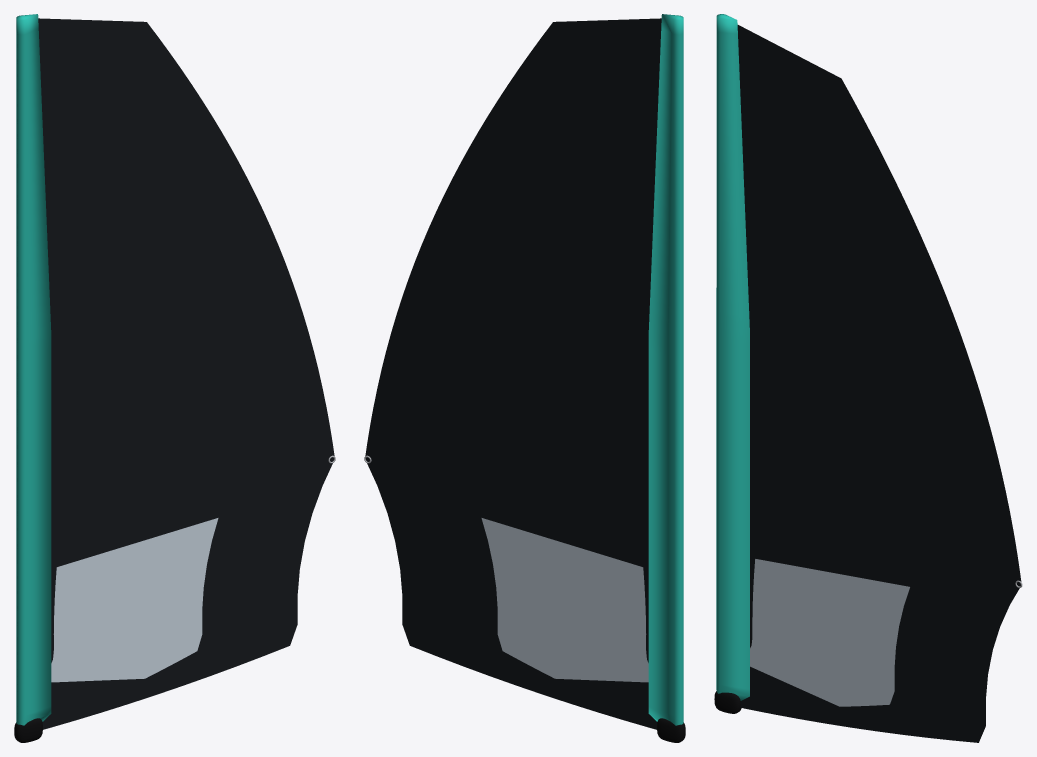
The model's file is tripletone_slalom_7_7.glb.
3 views of the same model, side by side, from view 1: azimuth 30°, elevation 25°; view 2: azimuth 150°, elevation 25°; view 3: azimuth 330°, elevation 25° (orthographic). The views are drawn at different scales.
Parts seen in each view (by area): view 1: SailCloth, TackFairing; view 2: SailCloth, TackFairing; view 3: SailCloth.
Part boxes in pixels (bbox=[...]): SailCloth: bbox=[16, 14, 334, 729]; TackFairing: bbox=[14, 718, 42, 742]; SailCloth: bbox=[365, 14, 683, 729]; TackFairing: bbox=[657, 718, 685, 742]; SailCloth: bbox=[716, 14, 1021, 742].
Size of the model in its own units: 2.19 by 4.75 by 0.08.
